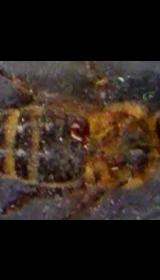varroa_mite: (66, 116, 90, 147)
